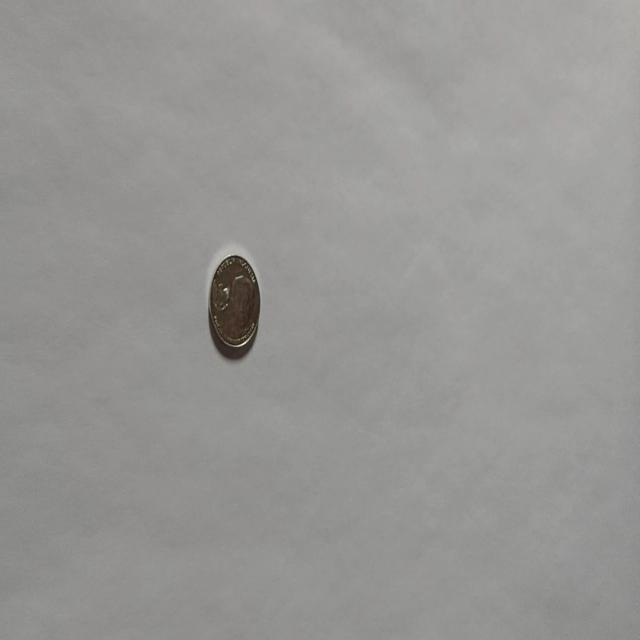seratus rupiah: (208, 252, 260, 352)
